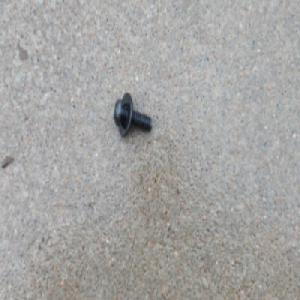BoltWasher: (114, 92, 153, 138)
